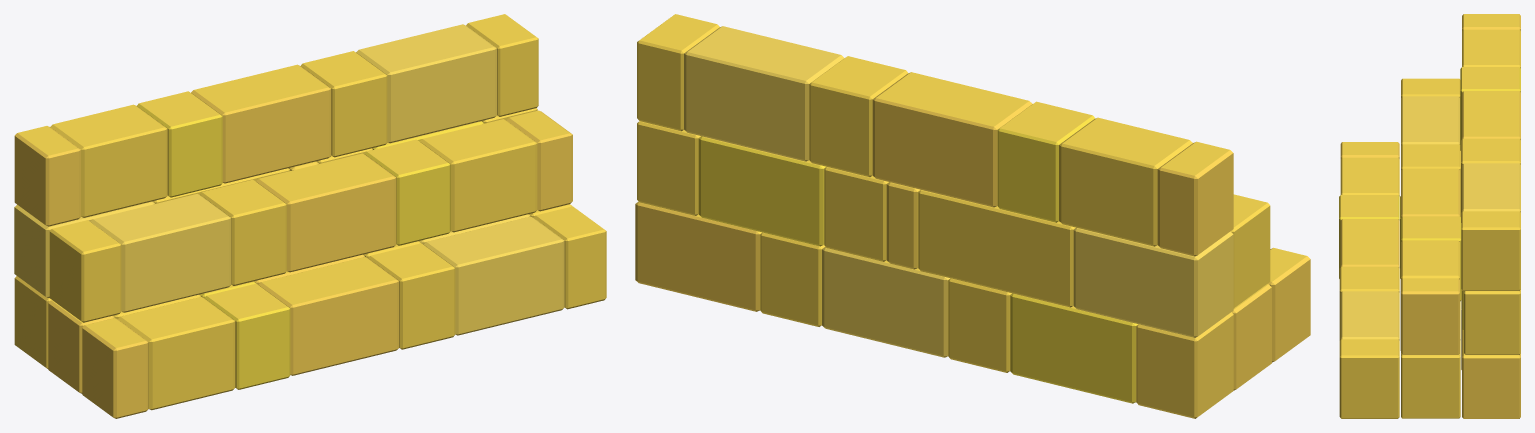
The model's file is stair.fbx.
3 renders of one model, left to right at view 1: azimuth 30°, elevation 25°; view 2: azimuth 150°, elevation 25°; view 3: azimuth 270°, elevation 25°, orthographic. The views are drawn at different scales.
Parts seen in each view (by area): view 1: Cube.002; view 2: Cube.002; view 3: Cube.002.
Part boxes in pixels (box(x1,y1,x2,y2)): Cube.002: box(14, 14, 606, 418); Cube.002: box(635, 14, 1310, 418); Cube.002: box(1339, 14, 1520, 418).
Bounding box in the file's own units: 445 × 184 × 158.
